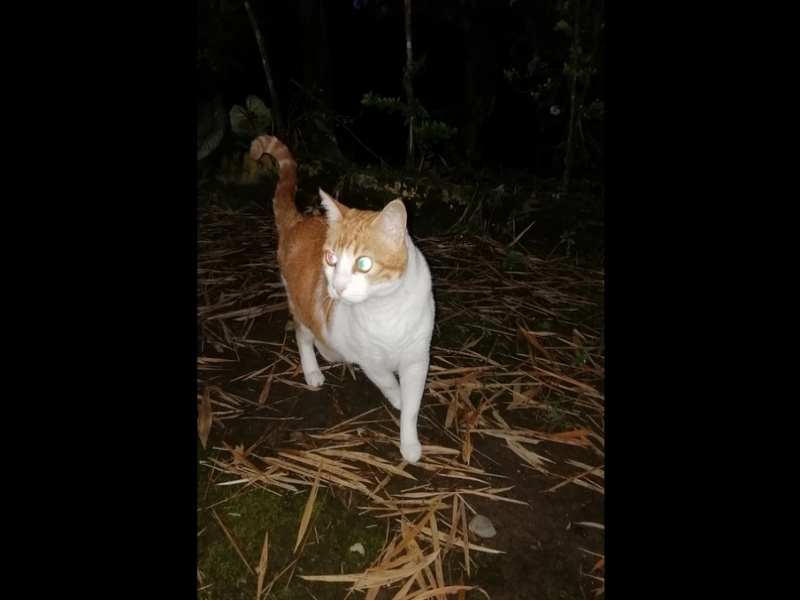cat: (251, 133, 442, 466)
